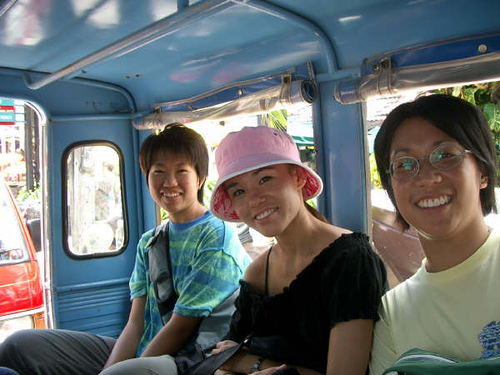without_mask: (368, 109, 500, 251), (214, 154, 323, 250), (131, 129, 208, 226)
